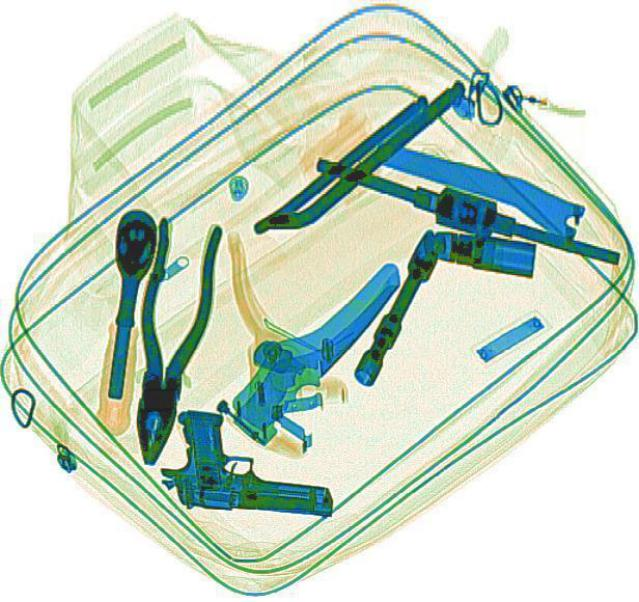Gun: (153, 406, 342, 517)
Pliers: (114, 214, 222, 467)
